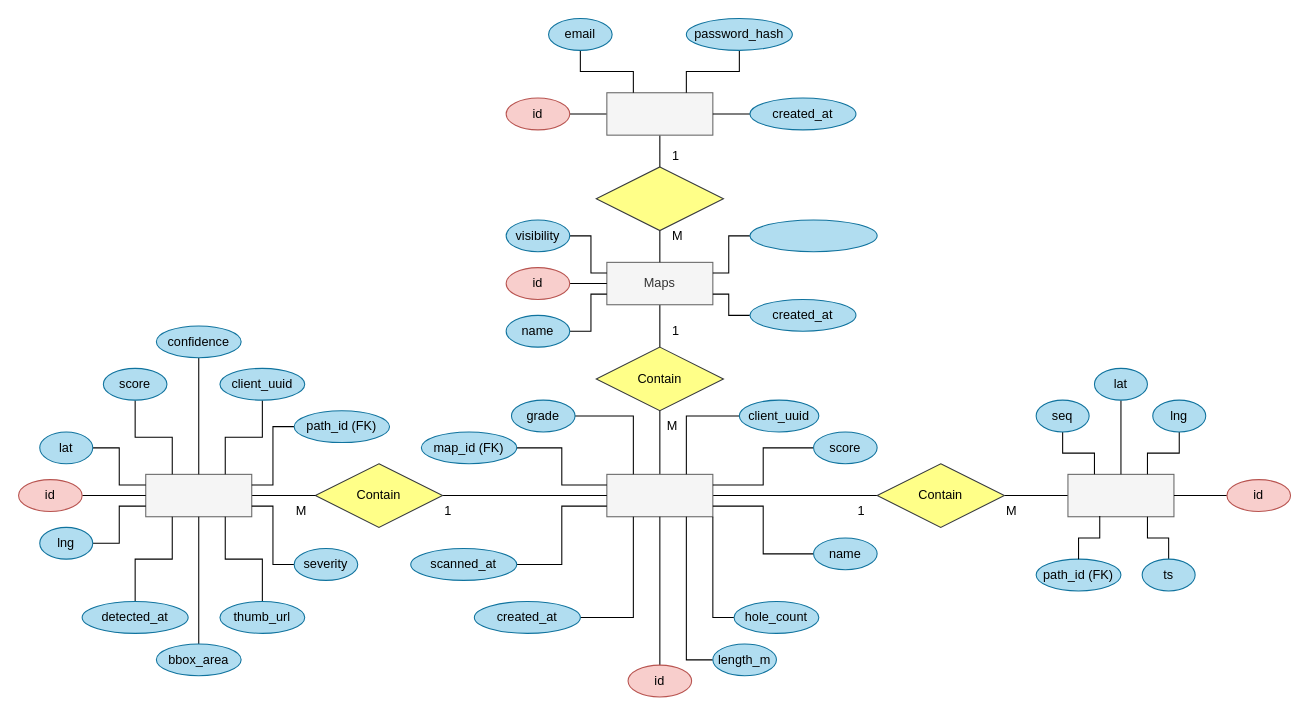
The diagram is 1309 pixels wide and 715 high, and some of its shapes have lost their labels. The centre of each missing label's shape, as x and y in pixels:
"created_by (FK)" belongs at pixel 813 235.
"Holes" belongs at pixel 198 495.
"Own" belongs at pixel 659 198.
"Path Points" belongs at pixel 1120 495.
"Paths" belongs at pixel 659 495.
"Users" belongs at pixel 659 113.
